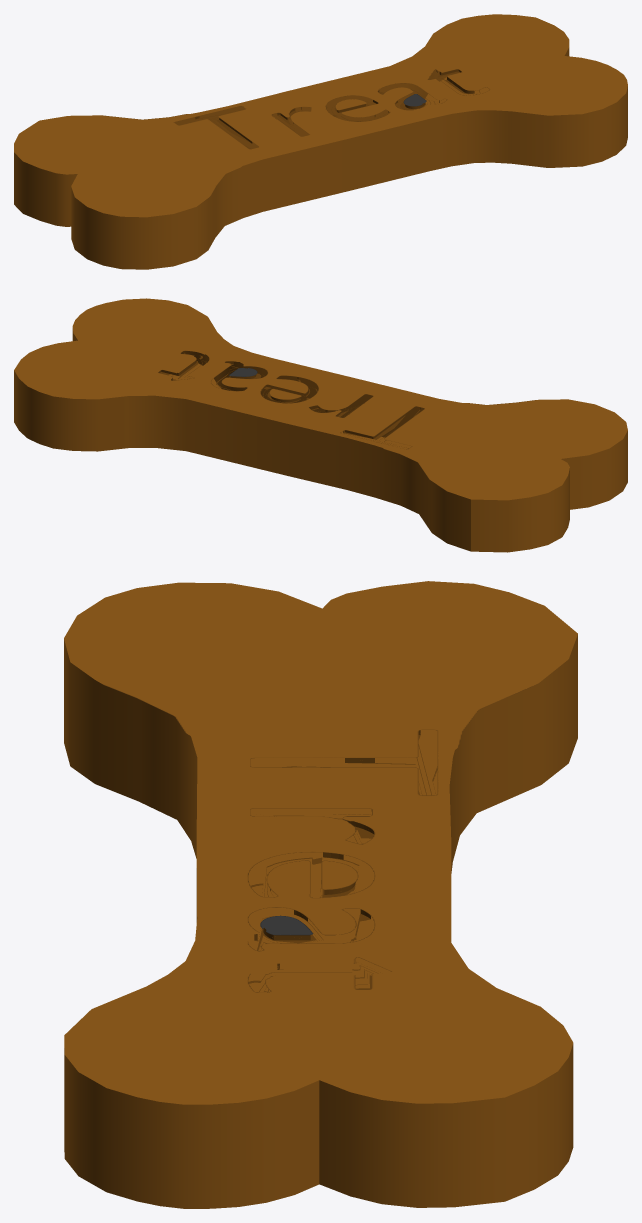
File: Treat2.fbx
3 renders of one model, top to bottom at view 1: azimuth 30°, elevation 25°; view 2: azimuth 150°, elevation 25°; view 3: azimuth 270°, elevation 25°, orthographic. The views are drawn at different scales.
Visible parts, largest first — view 1: Plane; view 2: Plane; view 3: Plane.
Boxes of the visible parts, x1,y1,x2,y2 form: Plane: (14,14,627,269); Plane: (14,298,627,552); Plane: (64,581,577,1208).
Size of the model in its own units: 439 by 40.73 by 182.
